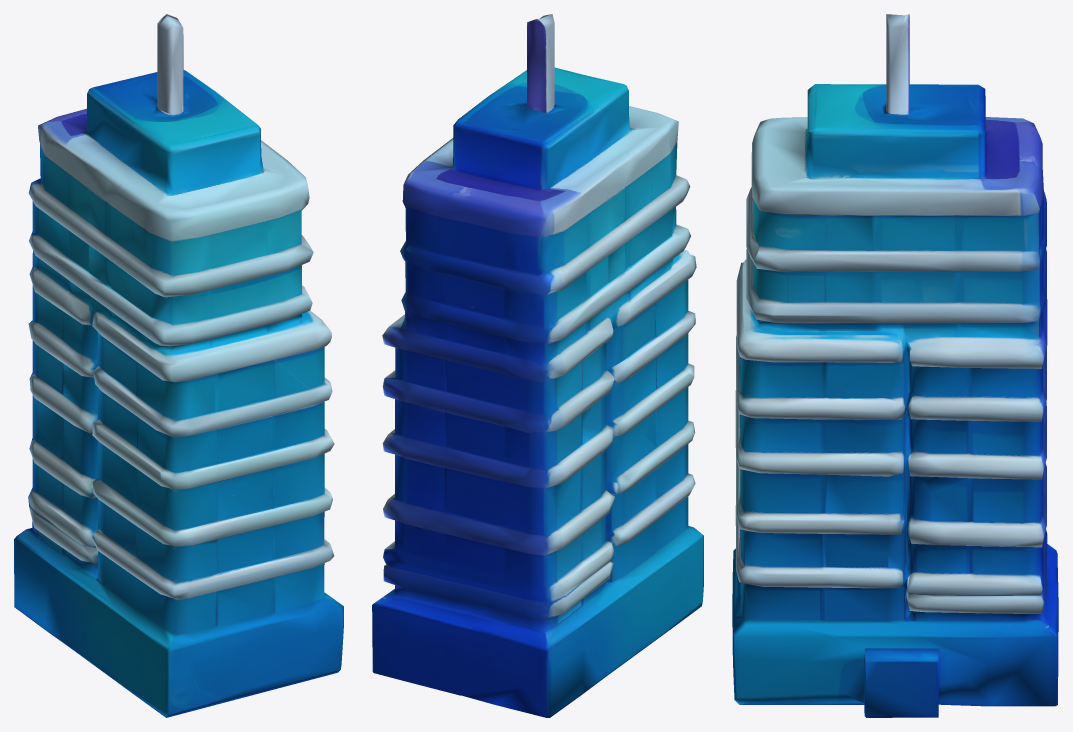
The model's file is skyscraper_sky.glb.
The picture shows the model from 3 angles, left to right: view 1: azimuth 30°, elevation 25°; view 2: azimuth 150°, elevation 25°; view 3: azimuth 270°, elevation 25°; orthographic projection. The views are drawn at different scales.
Visible parts, largest first — view 1: tripo_node_3dd3a1f0-b881-4795-b585-4fda5a03b36c; view 2: tripo_node_3dd3a1f0-b881-4795-b585-4fda5a03b36c; view 3: tripo_node_3dd3a1f0-b881-4795-b585-4fda5a03b36c.
Boxes of the visible parts, x1=… form: tripo_node_3dd3a1f0-b881-4795-b585-4fda5a03b36c: x1=14, y1=14, x2=343, y2=717; tripo_node_3dd3a1f0-b881-4795-b585-4fda5a03b36c: x1=372, y1=14, x2=703, y2=717; tripo_node_3dd3a1f0-b881-4795-b585-4fda5a03b36c: x1=732, y1=14, x2=1058, y2=717.
Size of the model in its own units: 0.3248 by 1 by 0.4558.
Materials: 1 (1 with a texture image).
